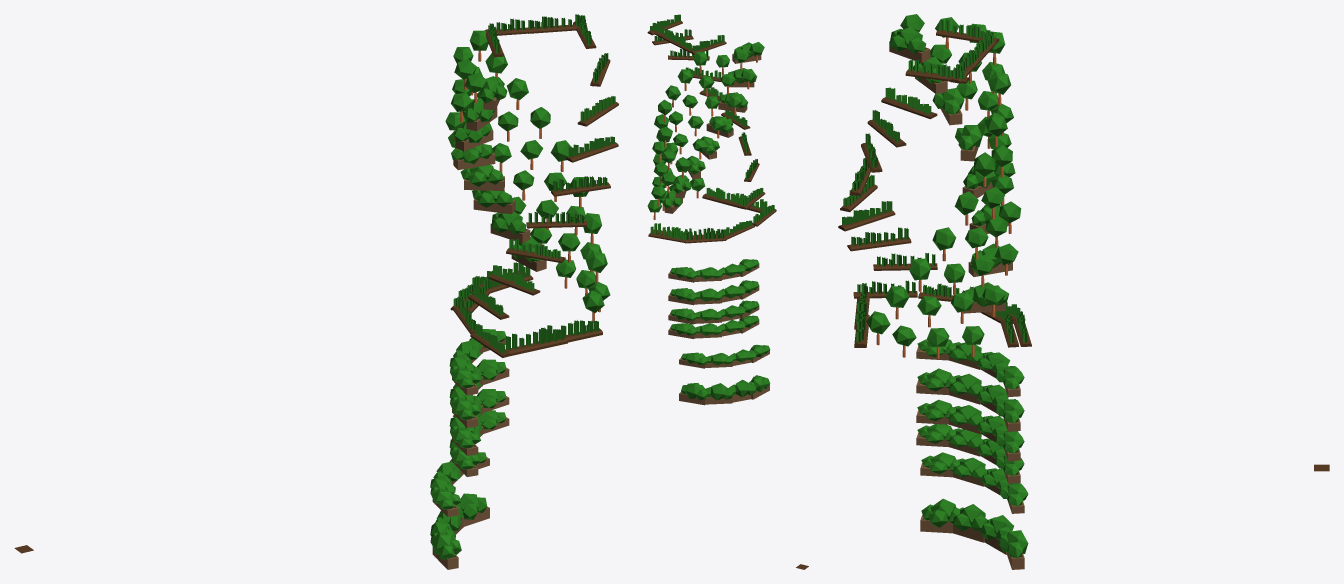
The model's file is solution_12_building_cover_2.fbx.
3 views of the same model, side by side, from view 1: azimuth 30°, elevation 25°; view 2: azimuth 150°, elevation 25°; view 3: azimuth 270°, elevation 25° (orthographic). The views are drawn at different scales.
Parts seen in each view (by area): view 1: solution_12_building_cover_2; view 2: solution_12_building_cover_2; view 3: solution_12_building_cover_2.
Part boxes in pixels (x1,y1,x2,y2): solution_12_building_cover_2: [14, 14, 618, 569]; solution_12_building_cover_2: [647, 14, 808, 569]; solution_12_building_cover_2: [838, 14, 1329, 569].
Bounding box in the file's own units: 6369 × 8448 × 6258.
